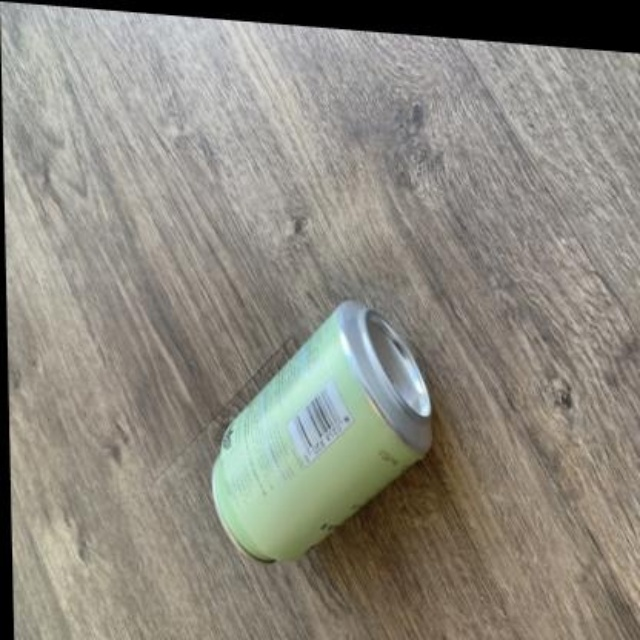trash: (212, 302, 431, 560)
